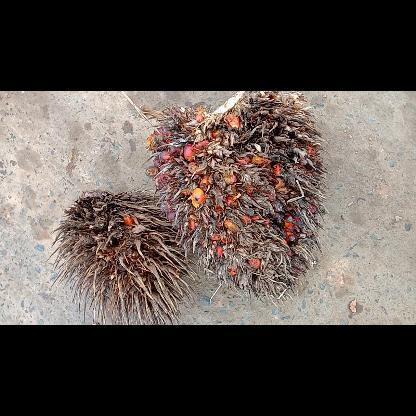Janjang kosong: (47, 188, 199, 324)
Terlalu masak: (138, 91, 330, 305)
